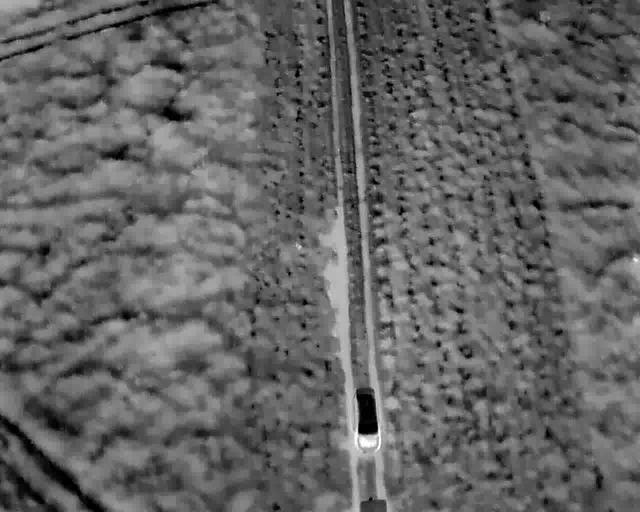car: (348, 427, 389, 512), (344, 324, 375, 390)
